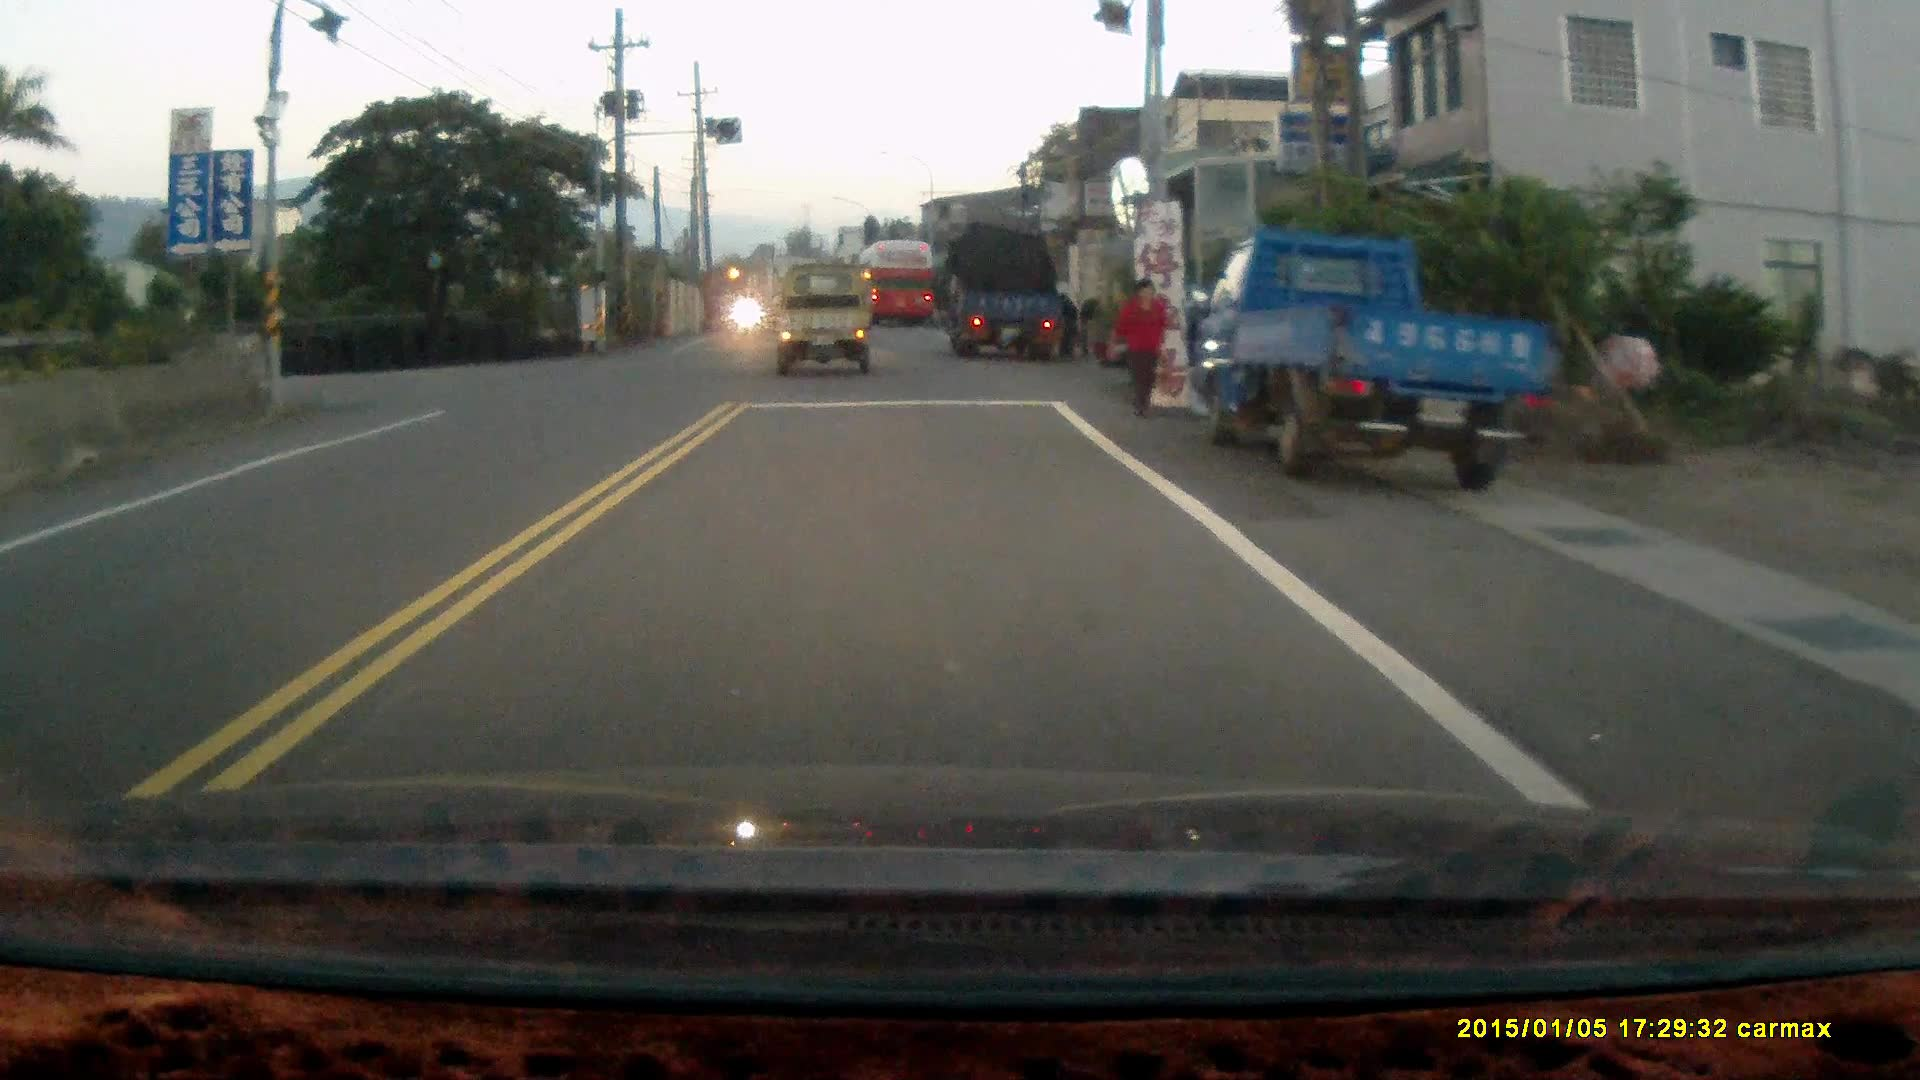pedestrian: (1112, 276, 1169, 420)
rider: (731, 285, 759, 341)
vehicle: (1194, 230, 1566, 492), (947, 230, 1073, 371), (778, 265, 879, 378), (864, 242, 952, 327)
